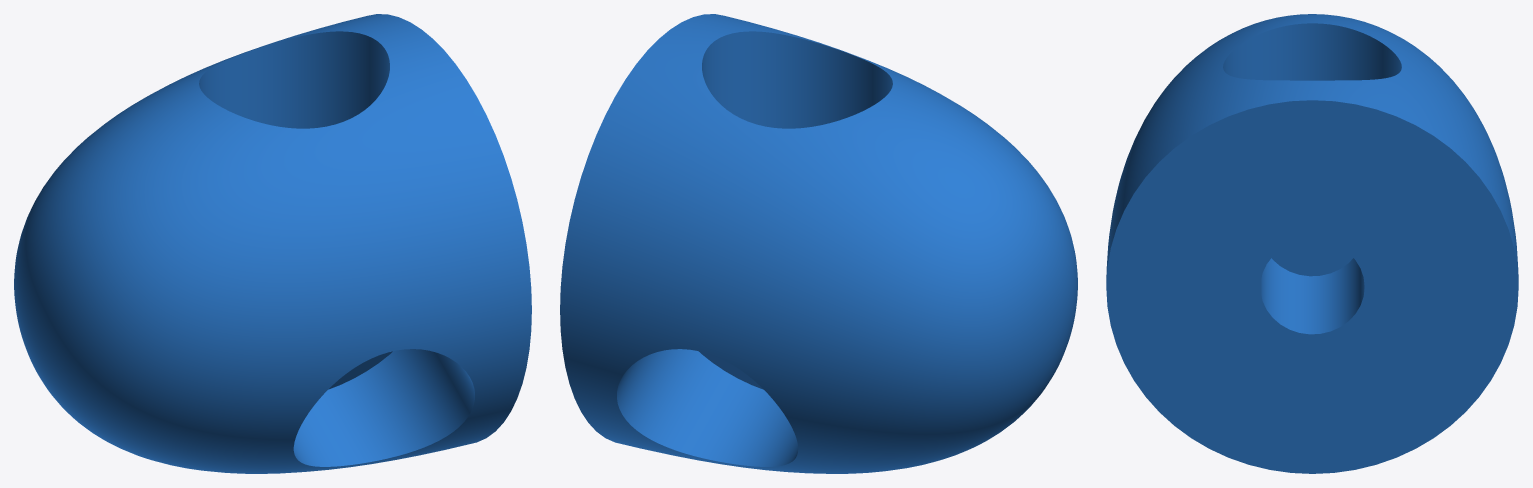
The model's file is Rotor.obj.
The picture shows the model from 3 angles, left to right: view 1: azimuth 30°, elevation 25°; view 2: azimuth 150°, elevation 25°; view 3: azimuth 270°, elevation 25°; orthographic projection. The views are drawn at different scales.
Visible parts, largest first — view 1: Solid1; view 2: Solid1; view 3: Solid1.
Part boxes in pixels (x1,y1,x2,y2): Solid1: (14,14,531,473); Solid1: (560,14,1077,473); Solid1: (1106,14,1518,473).
Bounding box in the file's own units: 38.1 × 38.1 × 38.1.
